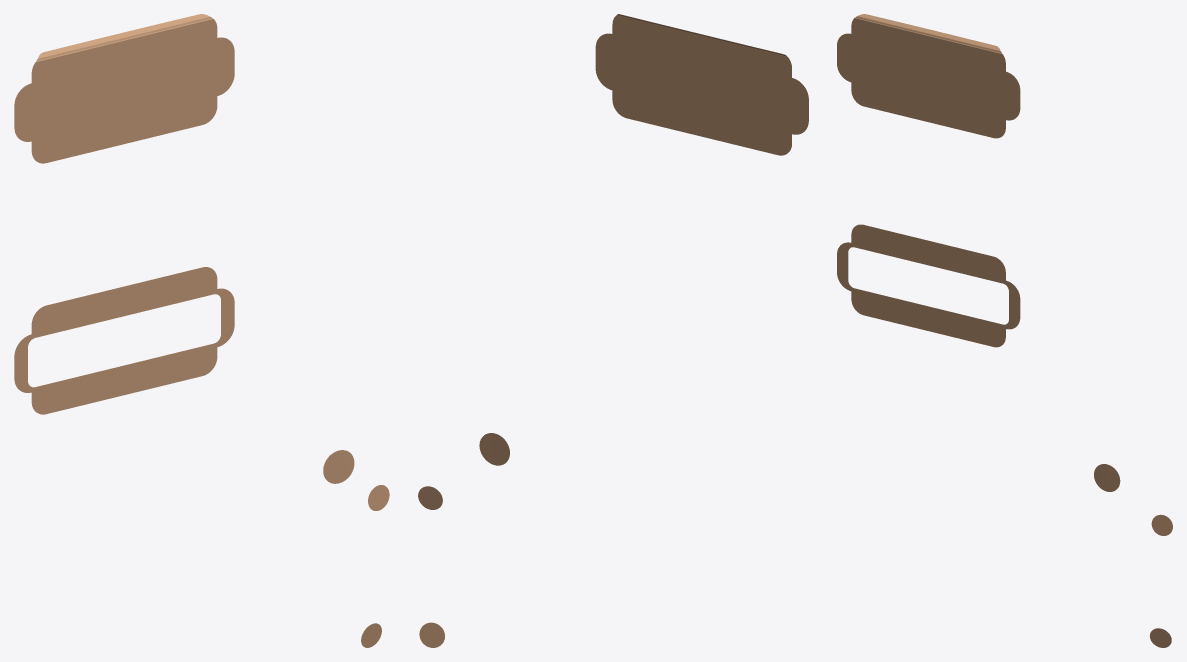
Rendered from sphyx_tremolo_pickup_fills.glb.
3 views of the same model, side by side, from view 1: azimuth 30°, elevation 25°; view 2: azimuth 150°, elevation 25°; view 3: azimuth 330°, elevation 25° (orthographic). The views are drawn at different scales.
Parts seen in each view (by area): view 1: neck_full, bridge_single, neck_single, switch; view 2: neck_full, neck_single, switch; view 3: neck_full, bridge_single, neck_single, switch.
Part boxes in pixels (box(x1,y1,x2,y2)): neck_full: box(14, 14, 234, 163); bridge_single: box(14, 267, 234, 414); neck_single: box(14, 39, 234, 140); switch: box(323, 450, 354, 483); neck_full: box(595, 14, 808, 155); neck_single: box(595, 36, 808, 133); switch: box(479, 433, 509, 465); neck_full: box(837, 14, 1020, 138); bridge_single: box(837, 224, 1020, 347); neck_single: box(837, 19, 1020, 117); switch: box(1094, 464, 1120, 491).
Size of the model in its own units: 0.1574 by 0.2659 by 0.0124.
